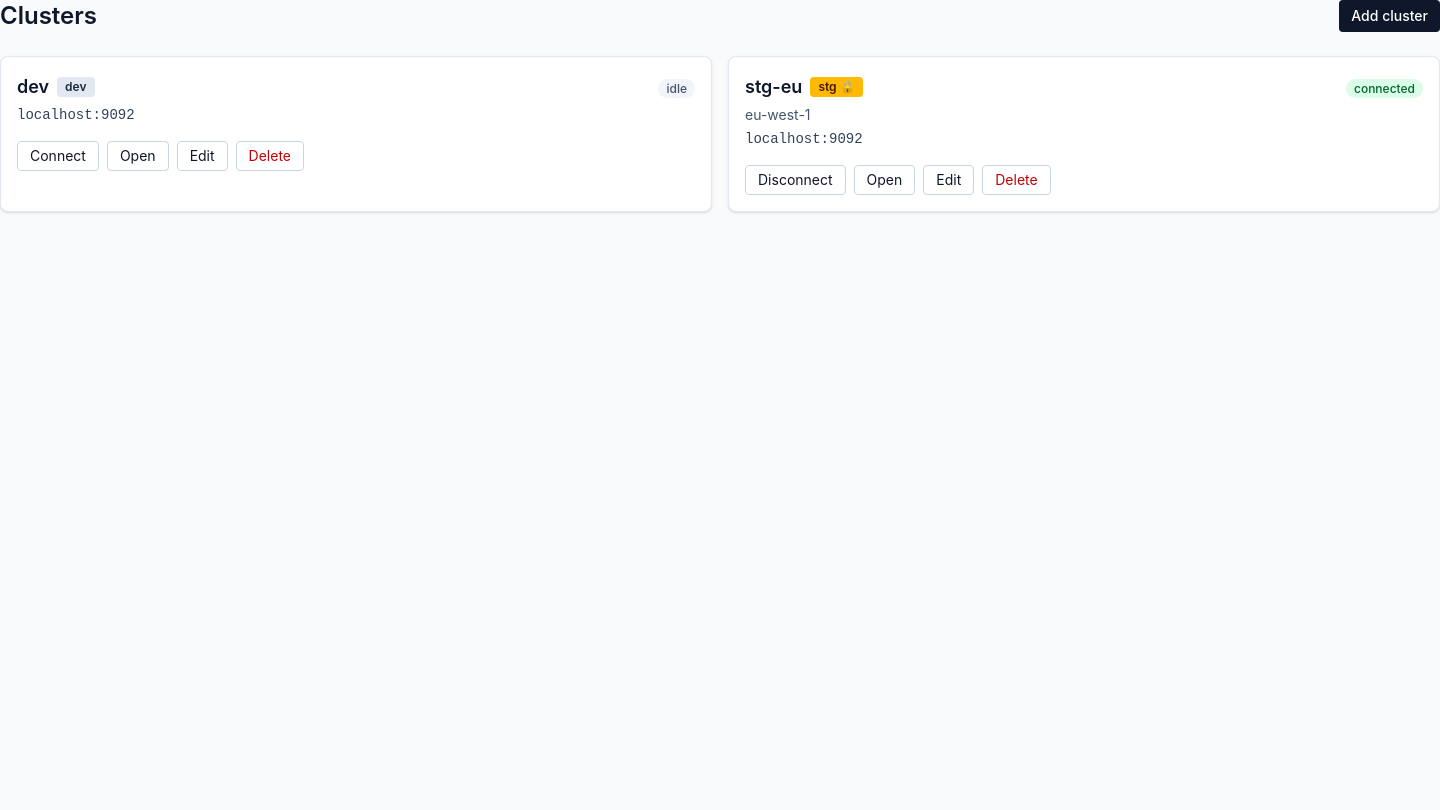
Test: ClusterManager › deletes only after the cluster name is typed
Expected: the element "dev" is shown, [0,56,712,212]
Click the 1st button "Delete" at [270, 156], box [236,141,304,171]
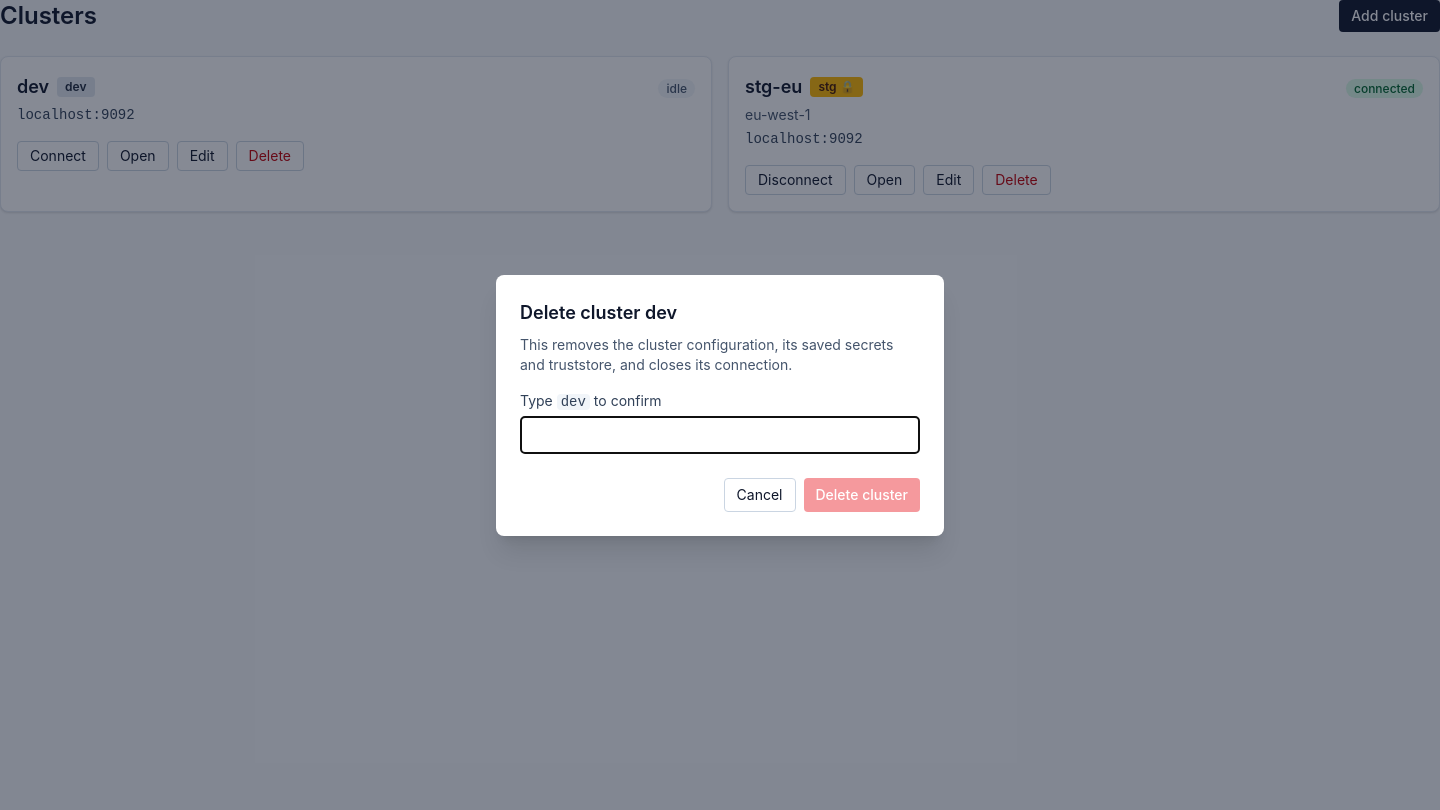
Expected: the button "Delete cluster" is disabled, [804,478,920,512]
Type "dev" into the field labelled "Type dev to confirm" at [720, 434], box [520,416,920,454]
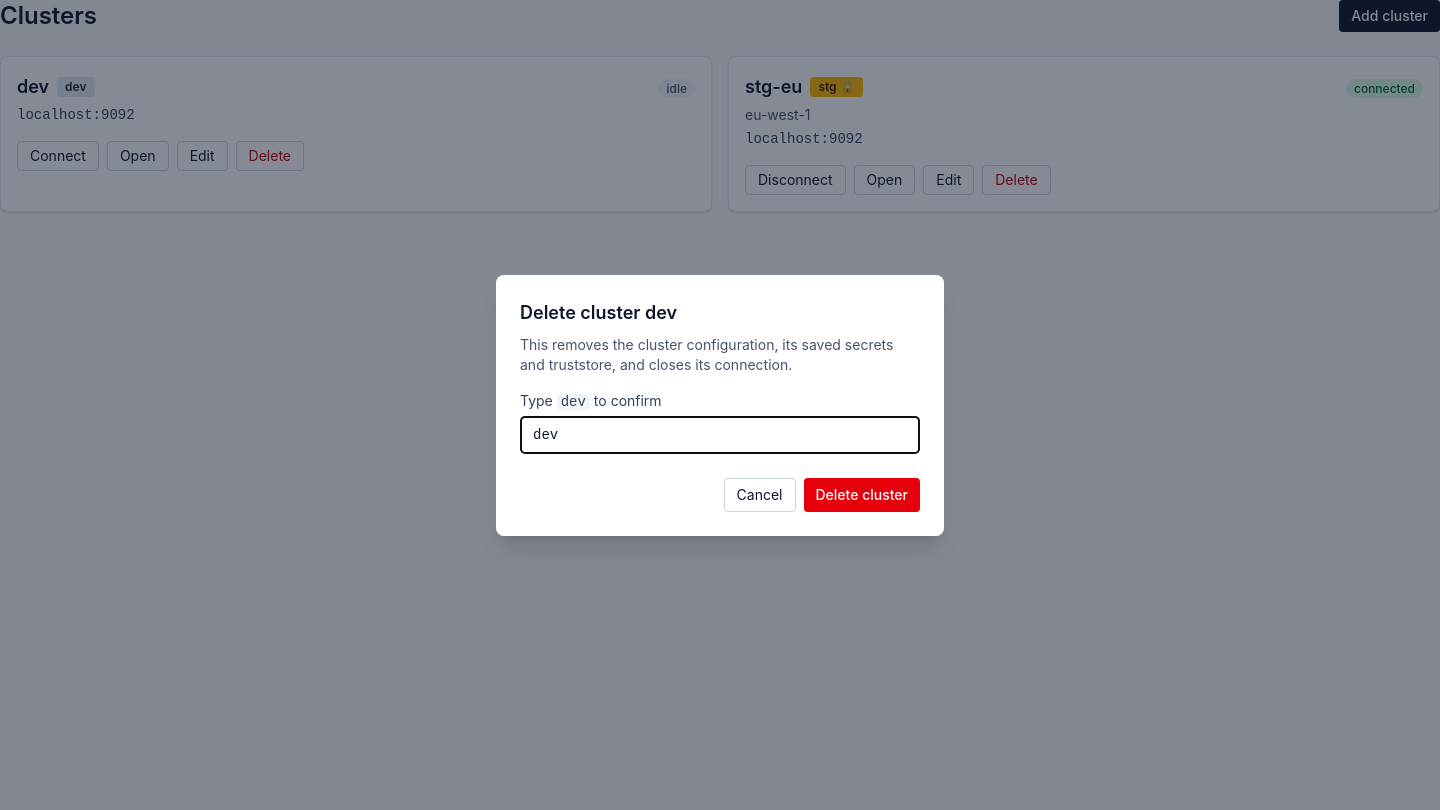
Click the button "Delete cluster" at [862, 494], box [804,478,920,512]
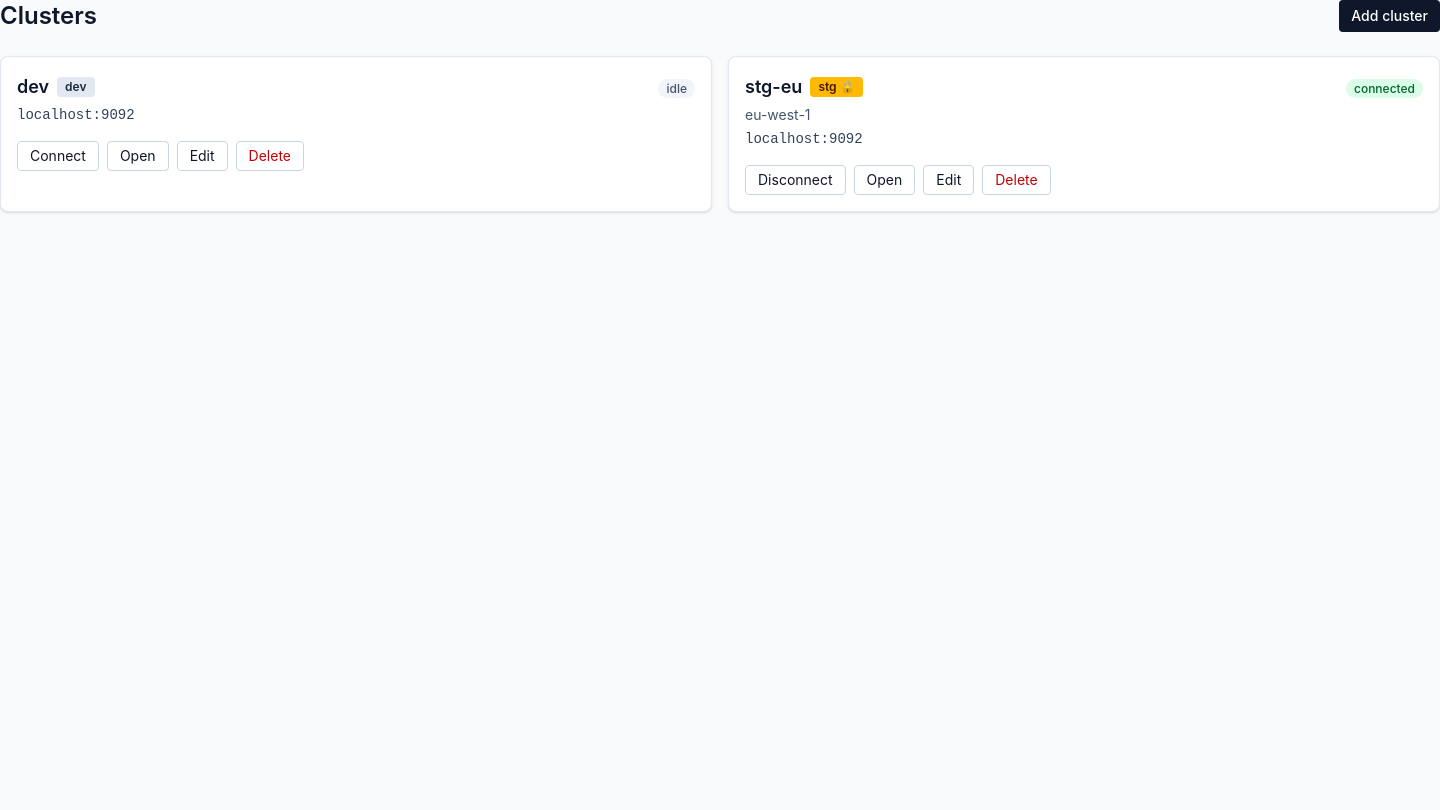
Expected: the dialog is gone
